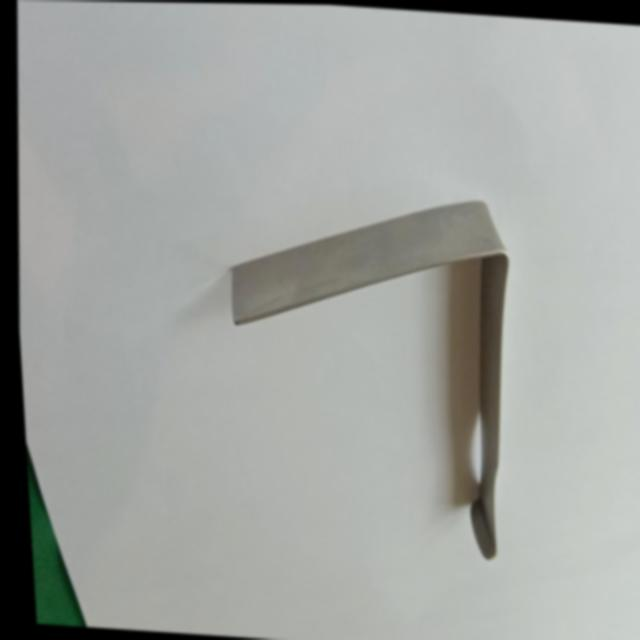AustinRetractor: (201, 172, 526, 577)
